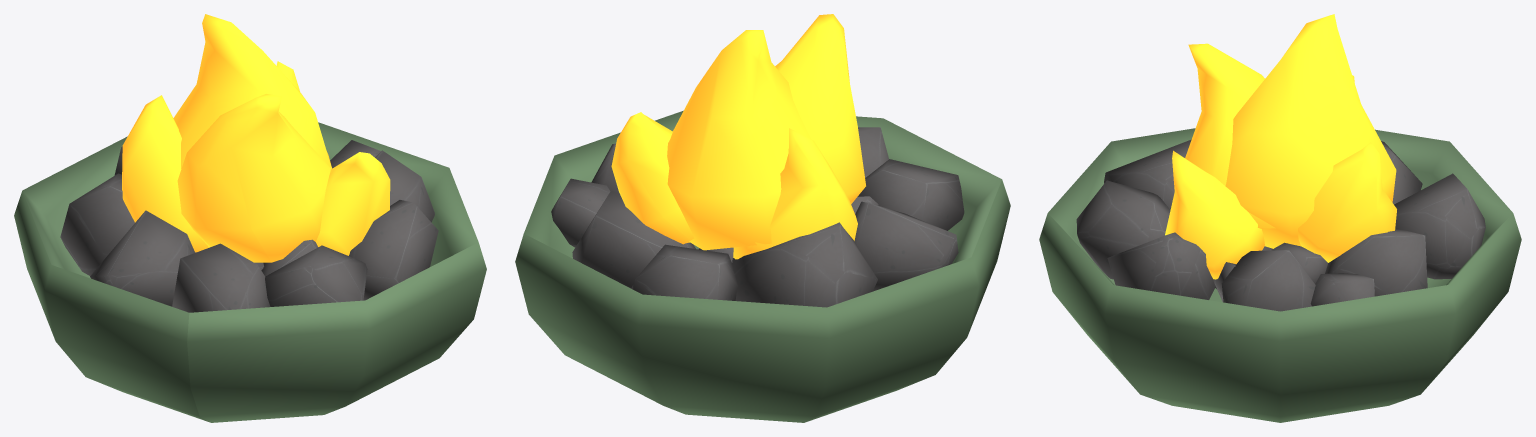
Rendered from campfire.glb.
The picture shows the model from 3 angles, left to right: view 1: azimuth 30°, elevation 25°; view 2: azimuth 150°, elevation 25°; view 3: azimuth 270°, elevation 25°; orthographic projection. The views are drawn at different scales.
Parts seen in each view (by area): view 1: Campfire; view 2: Campfire; view 3: Campfire.
Part boxes in pixels (x1,y1,x2,y2): Campfire: (14,14,486,422); Campfire: (515,14,1010,422); Campfire: (1039,14,1521,422).
Size of what is drawn, in the model's own units: 3.34 by 2.61 by 3.34.
Materials: 2 (2 with a texture image).
